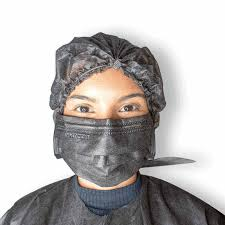with_mask_and_cap: (54, 41, 155, 188)
